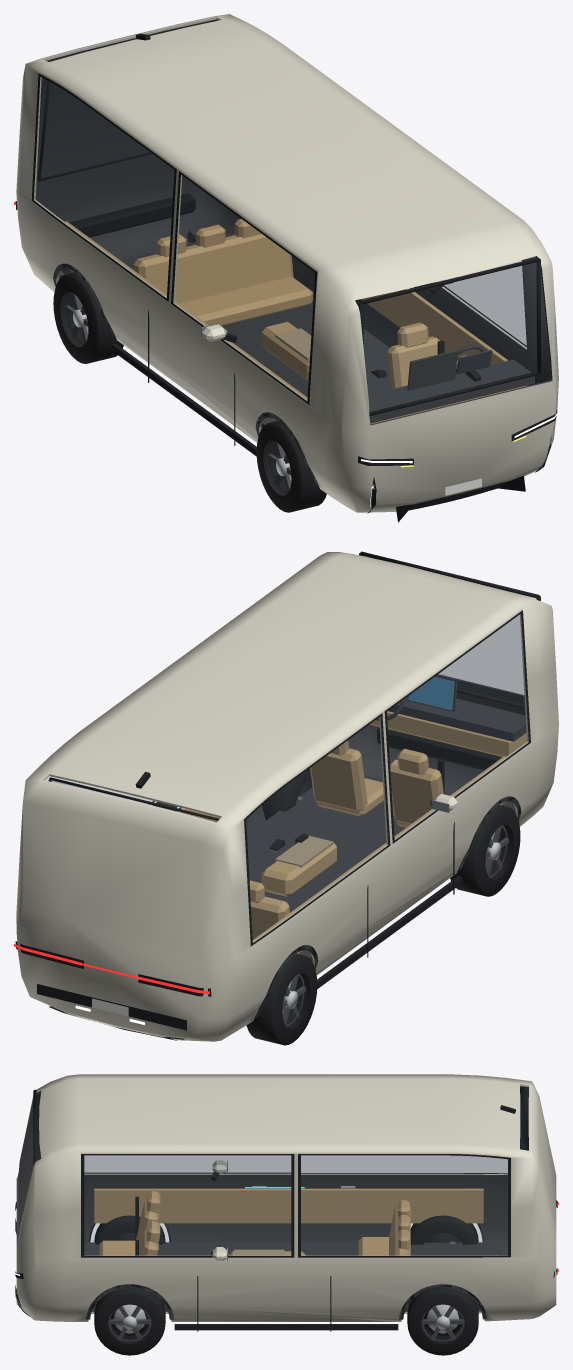
Rendered from training-van.glb.
3 renders of one model, top to bottom at view 1: azimuth 30°, elevation 25°; view 2: azimuth 150°, elevation 25°; view 3: azimuth 270°, elevation 25°, orthographic. The views are drawn at different scales.
Parts seen in each view (by area): view 1: Body, Surface_CarRoot_Glass, Interior_CarRoot_InteriorLeather, Surface_CarRoot_BlackTrim, Interior_CarRoot_InteriorDark, Surface_WheelFrontR_Tyre, Surface_WheelRearR_Tyre, Surface_CarRoot_Cladding, Interior_CarRoot_InteriorTrim; view 2: Body, Surface_CarRoot_Glass, Interior_CarRoot_InteriorLeather, Surface_CarRoot_BlackTrim, Interior_CarRoot_InteriorDark, Surface_WheelRearR_Tyre, Surface_WheelFrontR_Tyre, Surface_WheelFrontL_Tyre, InteriorCenterScreen, Interior_CarRoot_InteriorTrim, Surface_CarRoot_Cladding, InteriorSeatBaseL (+1 smaller); view 3: Body, Surface_CarRoot_Glass, Interior_CarRoot_InteriorLeather, Surface_CarRoot_BlackTrim, Interior_CarRoot_InteriorDark, Surface_WheelRearL_Tyre, Surface_WheelFrontL_Tyre, Surface_WheelRearR_Tyre, Surface_CarRoot_Cladding, Surface_WheelFrontR_Tyre, Surface_WheelRearL_Rim, Surface_WheelFrontL_Rim (+3 smaller).
Part boxes in pixels (x1,y1,x2,y2): Body: (16, 14, 558, 512); Surface_CarRoot_Glass: (34, 77, 536, 411); Interior_CarRoot_InteriorLeather: (65, 219, 527, 423); Surface_CarRoot_BlackTrim: (15, 33, 557, 522); Interior_CarRoot_InteriorDark: (60, 233, 534, 427); Surface_WheelFrontR_Tyre: (256, 421, 326, 512); Surface_WheelRearR_Tyre: (53, 272, 123, 363); Surface_CarRoot_Cladding: (53, 263, 317, 485); Interior_CarRoot_InteriorTrim: (275, 328, 311, 360); Body: (16, 552, 558, 1041); Surface_CarRoot_Glass: (46, 596, 535, 942); Interior_CarRoot_InteriorLeather: (177, 711, 526, 953); Surface_CarRoot_BlackTrim: (15, 551, 540, 1040); Interior_CarRoot_InteriorDark: (247, 674, 526, 959); Surface_WheelRearR_Tyre: (246, 953, 317, 1045); Surface_WheelFrontR_Tyre: (450, 805, 520, 896); Surface_WheelFrontL_Tyre: (262, 768, 312, 820); InteriorCenterScreen: (408, 677, 454, 710); Interior_CarRoot_InteriorTrim: (275, 835, 333, 867); Surface_CarRoot_Cladding: (255, 796, 521, 1018); InteriorSeatBaseL: (315, 778, 383, 816); Body: (16, 1074, 556, 1321); Surface_CarRoot_Glass: (84, 1108, 526, 1255); Interior_CarRoot_InteriorLeather: (94, 1188, 483, 1255); Surface_CarRoot_BlackTrim: (15, 1089, 557, 1331); Interior_CarRoot_InteriorDark: (84, 1242, 502, 1310); Surface_WheelRearL_Tyre: (407, 1288, 478, 1355); Surface_WheelFrontL_Tyre: (94, 1288, 165, 1355); Surface_WheelRearR_Tyre: (410, 1215, 478, 1244); Surface_CarRoot_Cladding: (86, 1223, 486, 1319); Surface_WheelFrontR_Tyre: (94, 1215, 165, 1244); Surface_WheelRearL_Rim: (421, 1306, 464, 1341); Surface_WheelFrontL_Rim: (108, 1306, 151, 1341).
Bounding box in the file's own units: 2.32 × 2.39 × 5.66.
